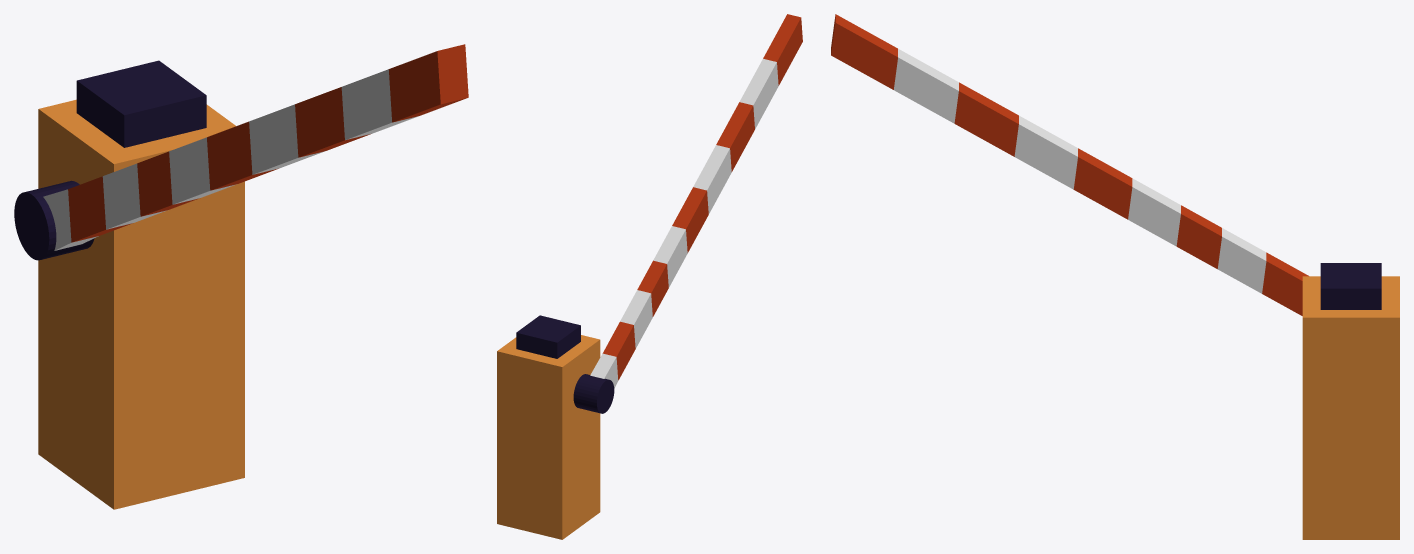
The model's file is vartai_pakeliami.fbx.
3 renders of one model, left to right at view 1: azimuth 30°, elevation 25°; view 2: azimuth 150°, elevation 25°; view 3: azimuth 270°, elevation 25°, orthographic. The views are drawn at different scales.
Parts seen in each view (by area): view 1: Cube.002; view 2: Cube.002; view 3: Cube.002.
Part boxes in pixels (left/top/right/bottom): Cube.002: left=14, top=44, right=468, bottom=509; Cube.002: left=497, top=14, right=802, bottom=539; Cube.002: left=831, top=14, right=1399, bottom=539.
Size of the model in its own units: 2.71 by 10.72 by 11.69.
